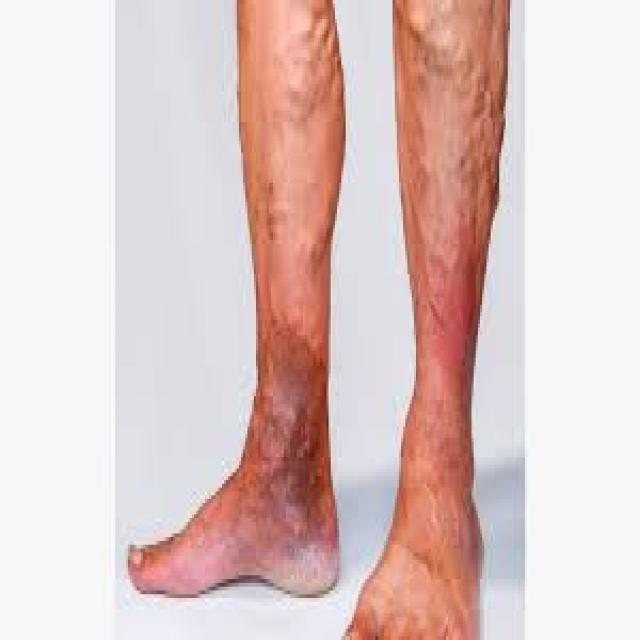Varicose: (226, 286, 354, 590)
